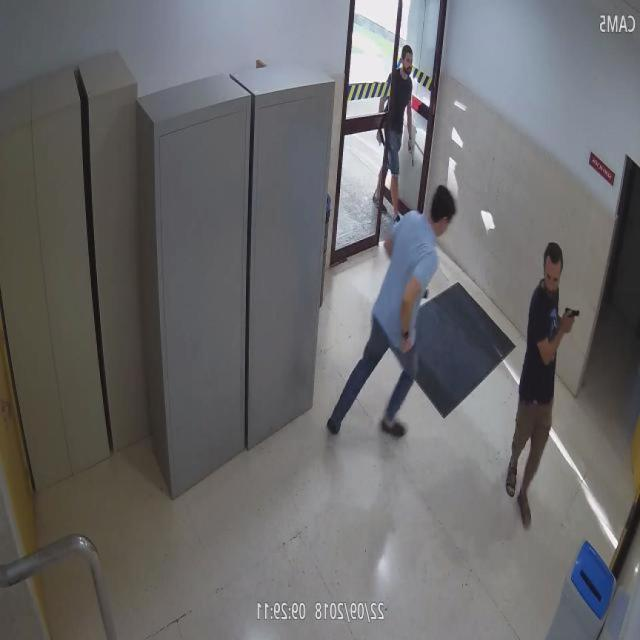pistol: (562, 306, 581, 332), (406, 132, 416, 166)
